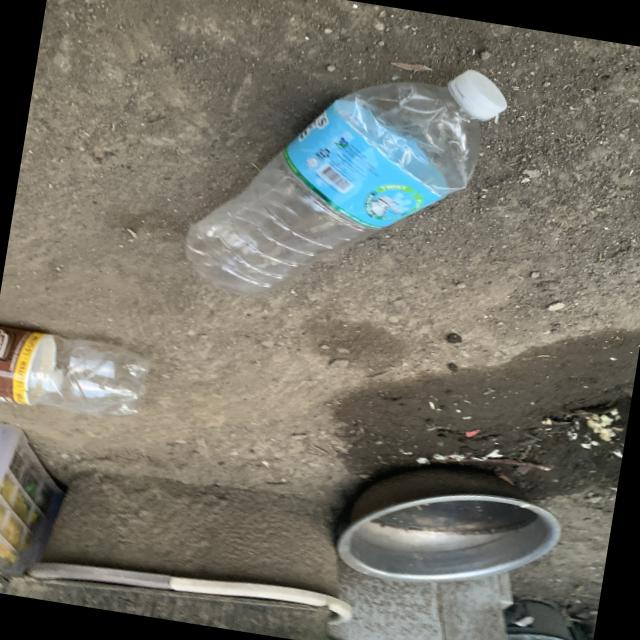Bottle: (186, 70, 507, 293)
